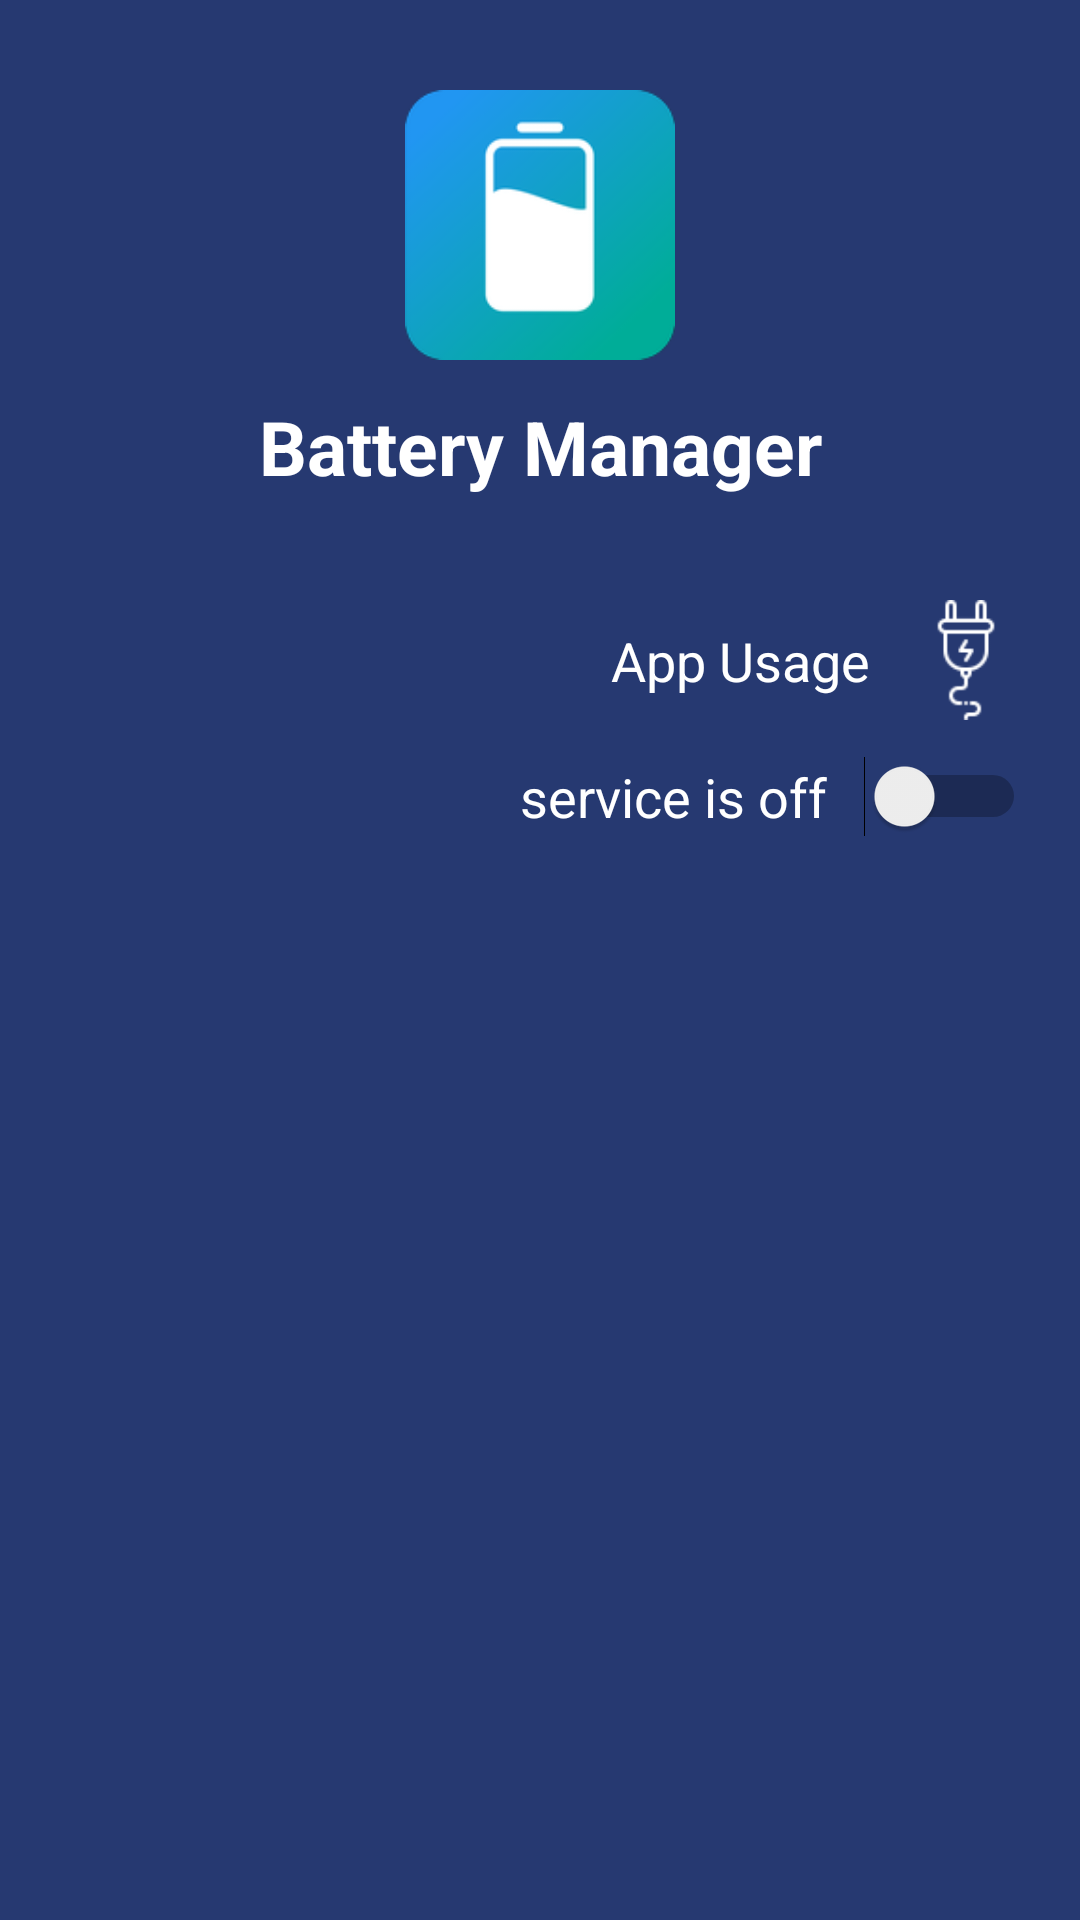

Icon bounding boxes for this 1080 × 1920 phone screenshot, format (x1, y1, x2, y2):
plug: (937, 600, 995, 720)
